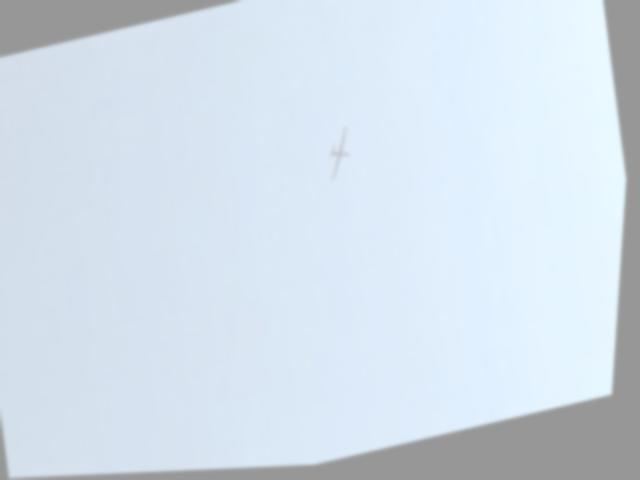uav: (312, 115, 369, 194)
